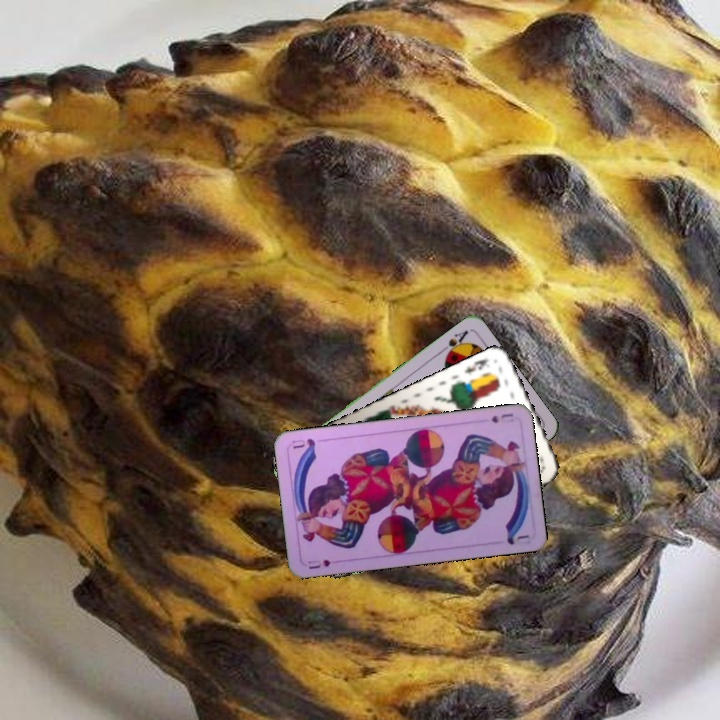EK: (460, 355, 492, 376)
SA: (436, 326, 471, 360)
SU: (304, 555, 343, 572), (487, 409, 516, 425)
